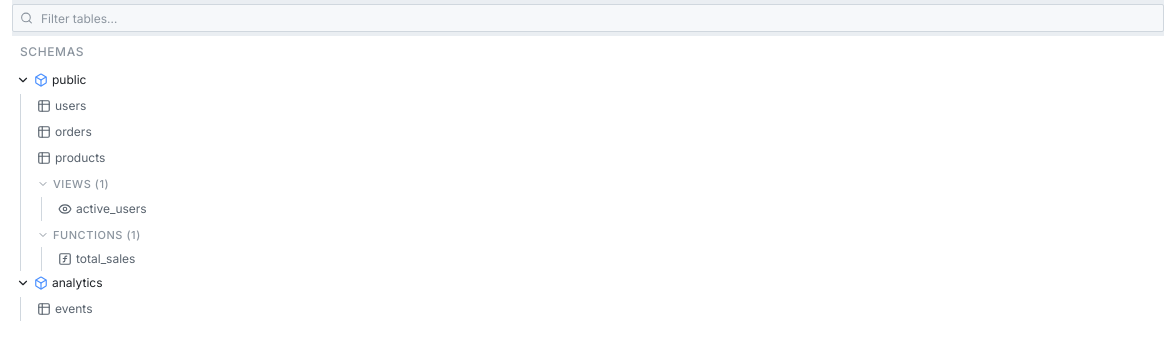
Scenario: SchemaTree filter › matches case-insensitively
Type "USER" into the field labelled "Filter tables" at (588, 18), box [12,4,1164,32]
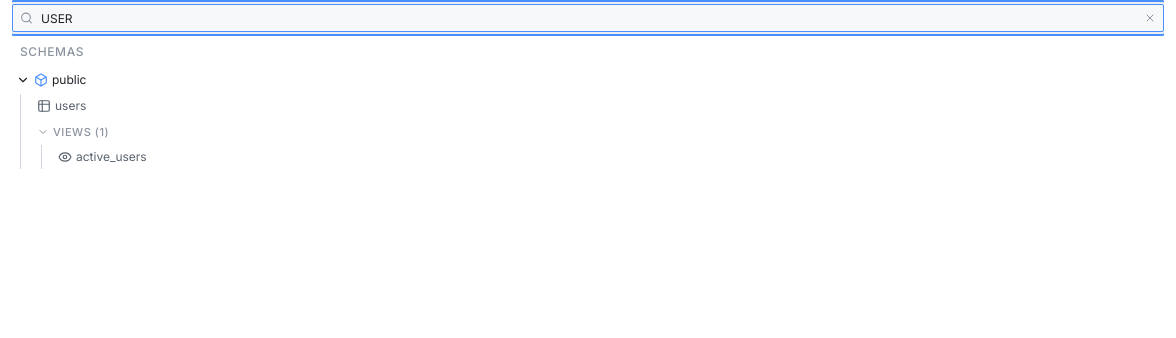
Expected: the text "users" is shown, [55,98,86,114]
Result: the list item "orders" is gone
